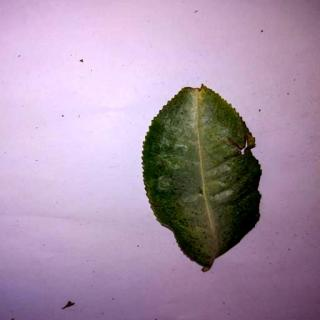Anthracnose: (142, 82, 264, 271)
